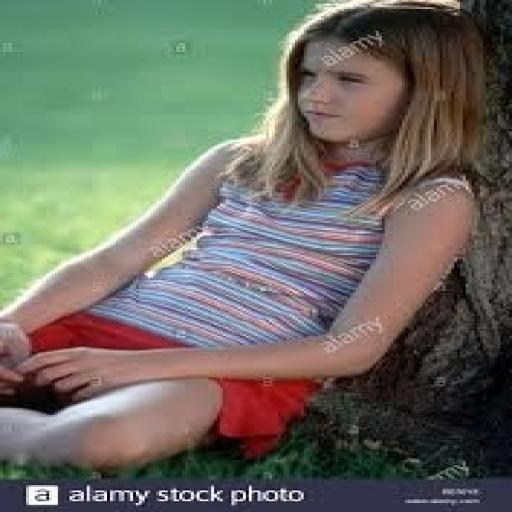sitting: (0, 0, 503, 472)
